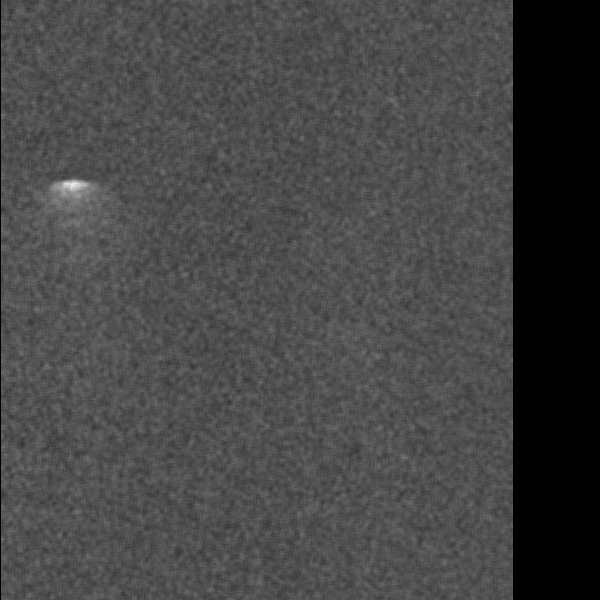spark: (50, 175, 101, 234)
